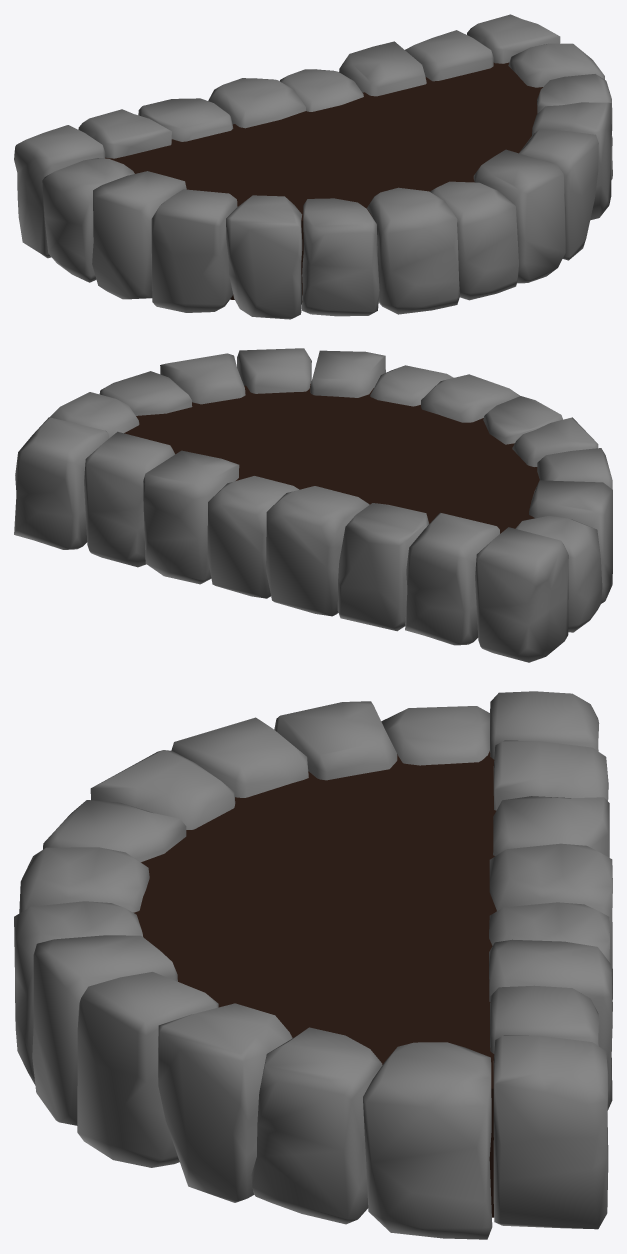
Rendered from SM_flowerbed_02.fbx.
The picture shows the model from 3 angles, top to bottom: view 1: azimuth 30°, elevation 25°; view 2: azimuth 150°, elevation 25°; view 3: azimuth 270°, elevation 25°; orthographic projection. The views are drawn at different scales.
Parts seen in each view (by area): view 1: Object342719; view 2: Object342719; view 3: Object342719.
Boxes of the visible parts, x1,y1,x2,y2 form: Object342719: (14,14,612,319); Object342719: (14,348,612,662); Object342719: (14,691,612,1239).
Bounding box in the file's own units: 101 × 19.21 × 63.5.
